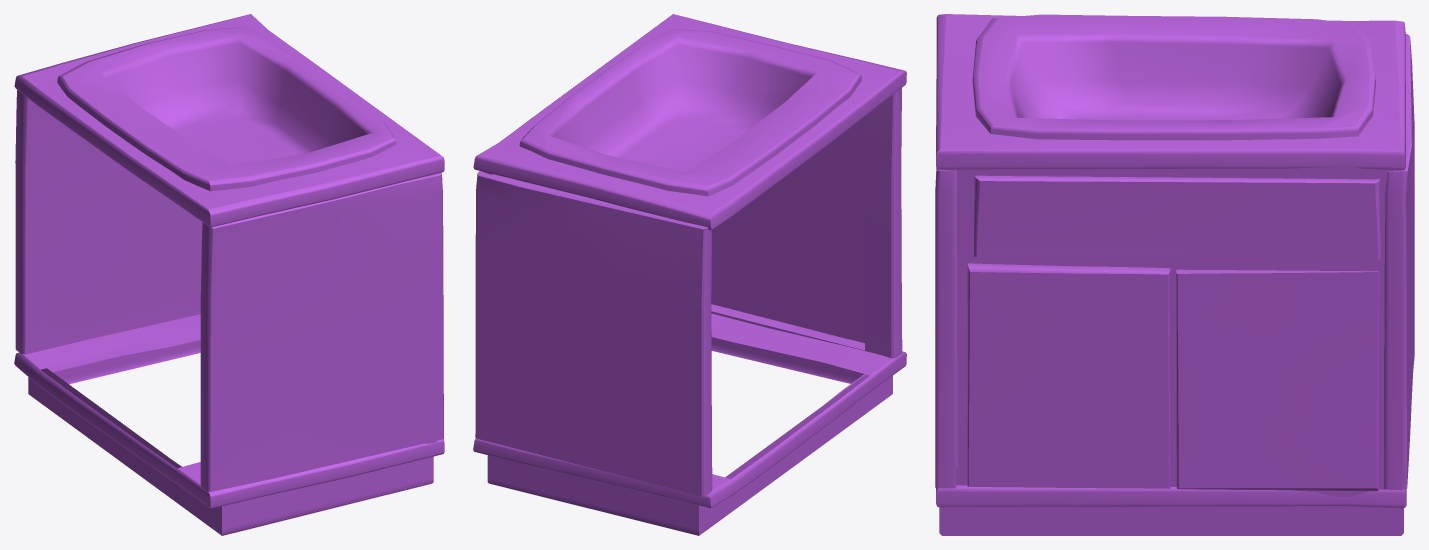
Rendered from Friday_BathroomSink.fbx.
3 renders of one model, left to right at view 1: azimuth 30°, elevation 25°; view 2: azimuth 150°, elevation 25°; view 3: azimuth 270°, elevation 25°, orthographic. The views are drawn at different scales.
Parts seen in each view (by area): view 1: Sink1; view 2: Sink1; view 3: Sink1.
Boxes of the visible parts, x1,y1,x2,y2 form: Sink1: [14, 14, 444, 535]; Sink1: [473, 14, 906, 535]; Sink1: [935, 14, 1414, 535].
Size of the model in its own units: 30.74 by 41.28 by 44.55.
